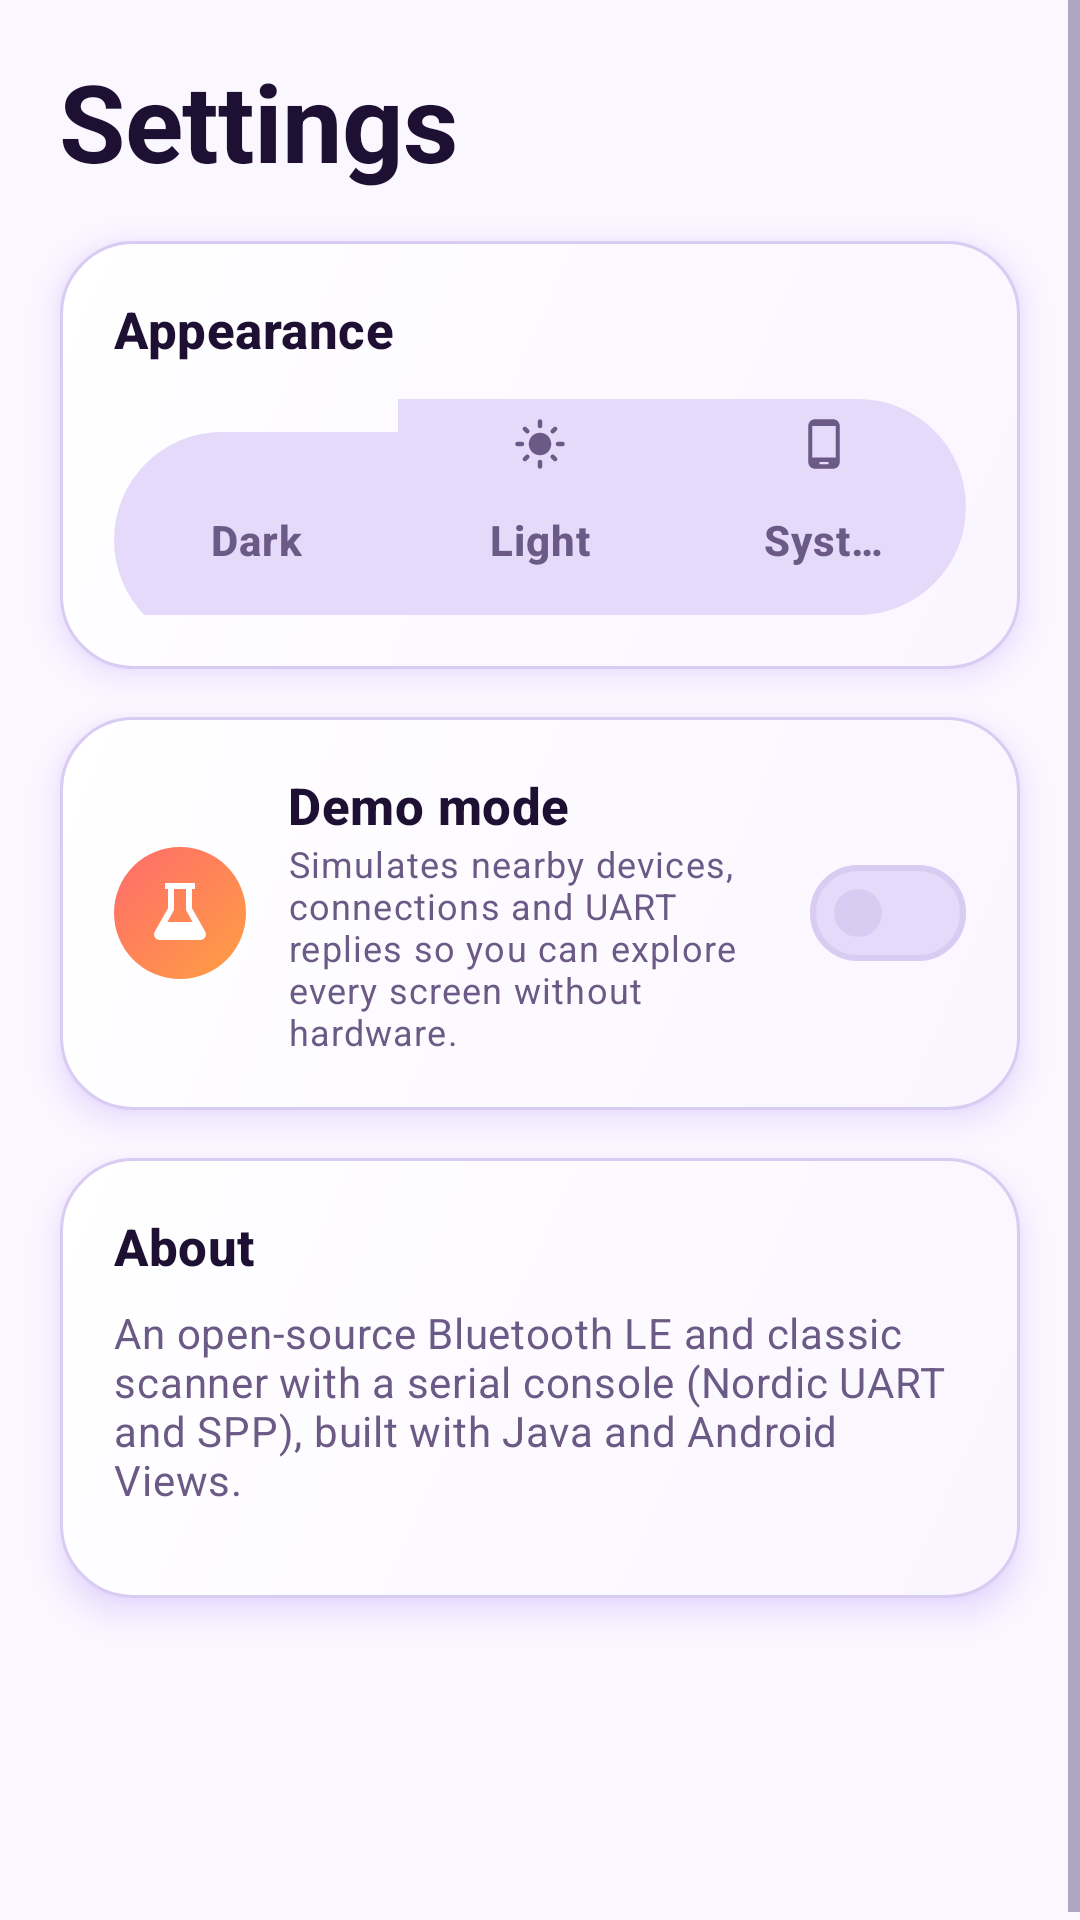

Icon bounding boxes for this 1080px x 1920px phone screenshot, format (x1, y1, x2, y2):
science: (154, 883, 206, 940)
